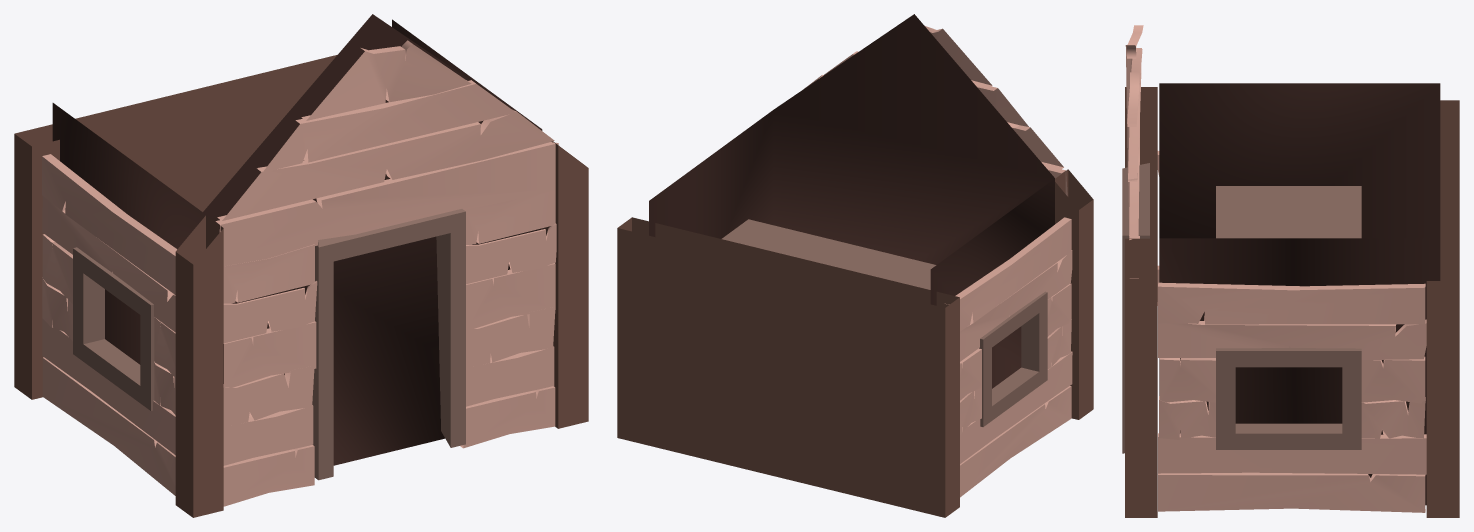
File: Building_Door_004.glb
3 views of the same model, side by side, from view 1: azimuth 30°, elevation 25°; view 2: azimuth 150°, elevation 25°; view 3: azimuth 270°, elevation 25° (orthographic). The views are drawn at different scales.
Visible parts, largest first — view 1: Building_Door_004; view 2: Building_Door_004; view 3: Building_Door_004.
Boxes of the visible parts, bbox=[...] form: Building_Door_004: bbox=[14, 14, 588, 517]; Building_Door_004: bbox=[617, 14, 1093, 517]; Building_Door_004: bbox=[1122, 25, 1459, 517].
Bounding box in the file's own units: 7.12 × 7.61 × 5.62.
1 material, 1 textured.
